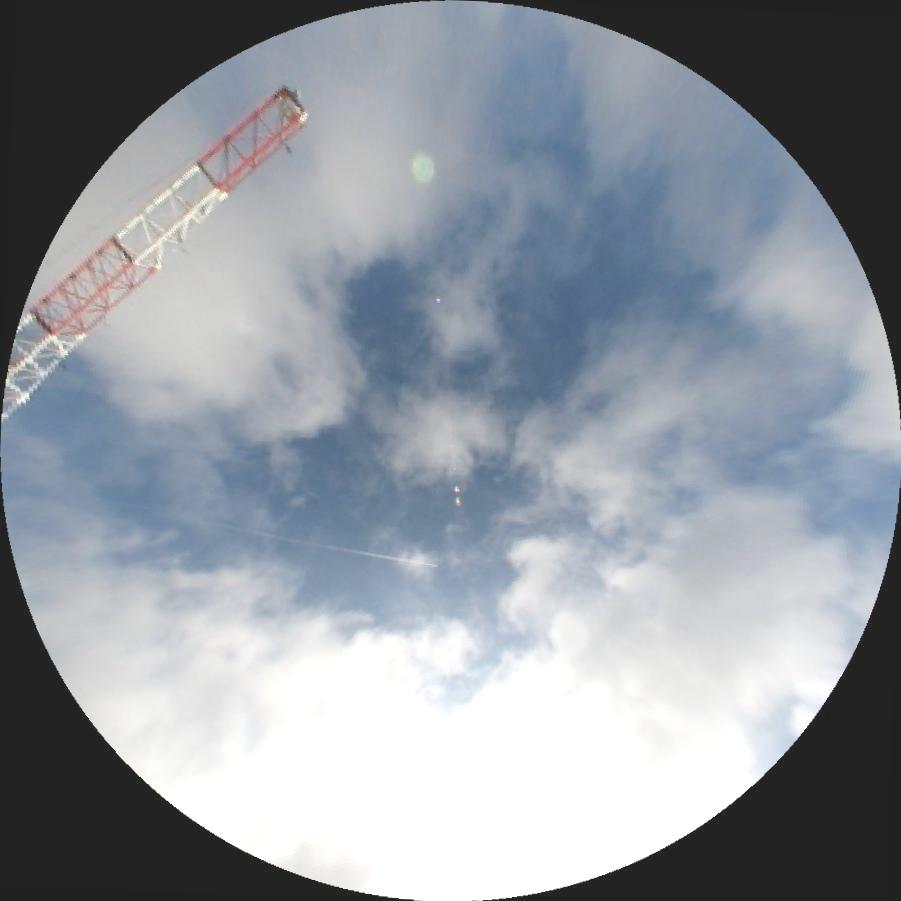contrail young: (220, 523, 439, 570)
